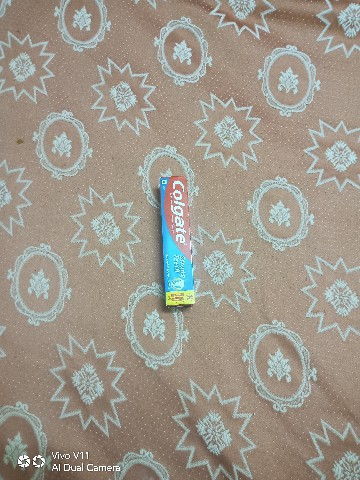colgatetoothpaste small: (146, 163, 208, 322)
